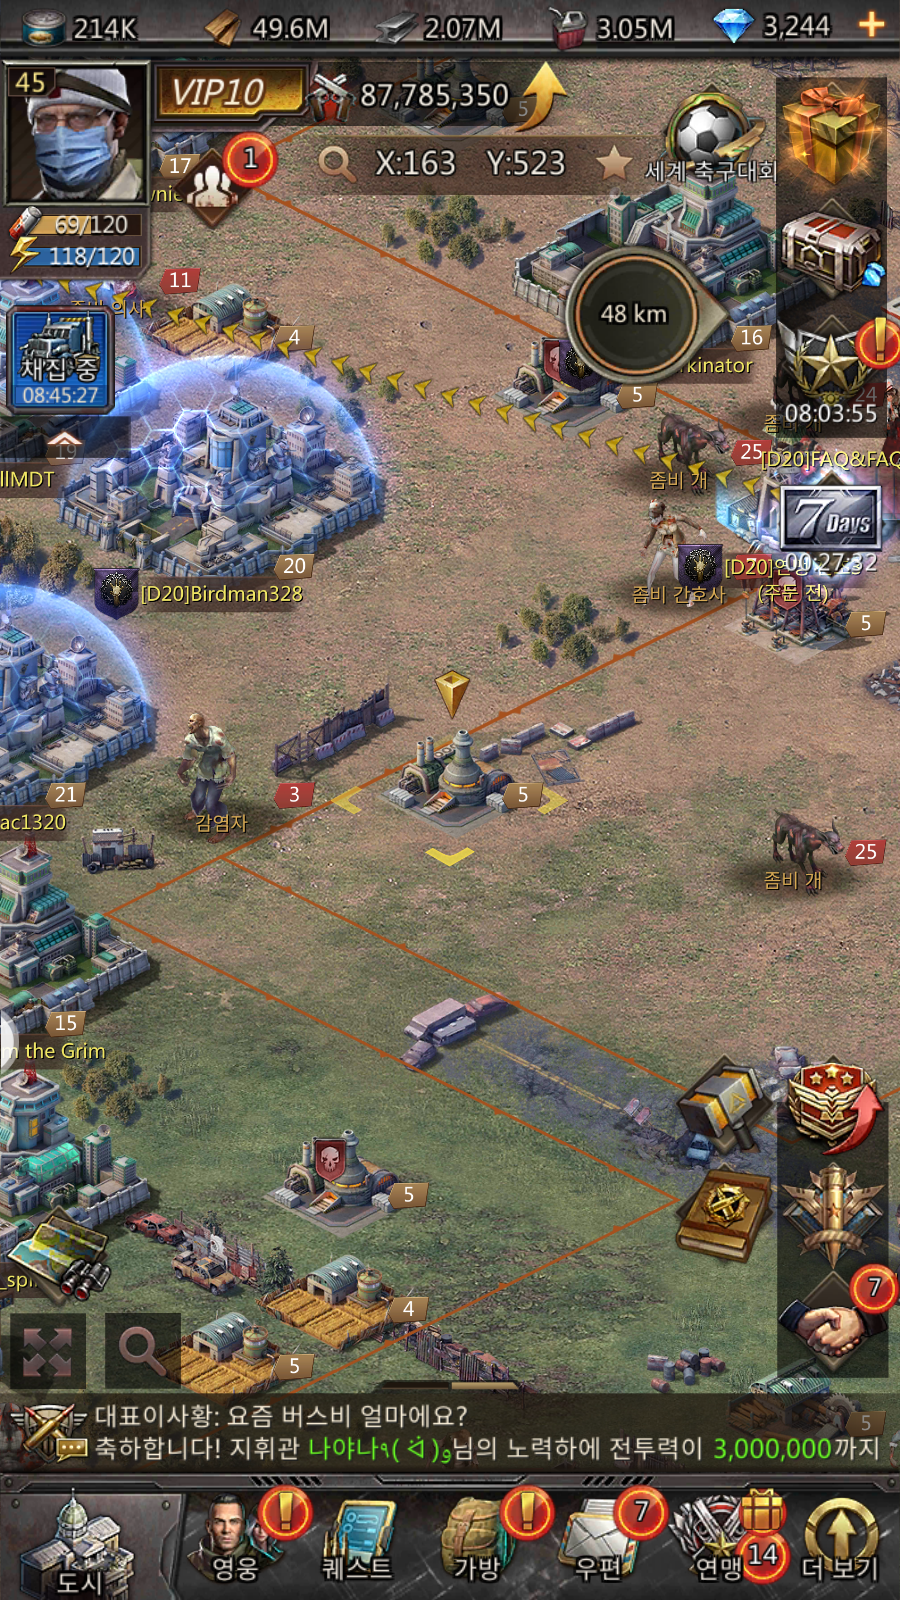city: (7, 1491, 176, 1595)
empty_steel: (324, 658, 584, 878)
open_panel: (100, 1304, 187, 1400)
troops_cnt_1: (162, 127, 295, 244)
